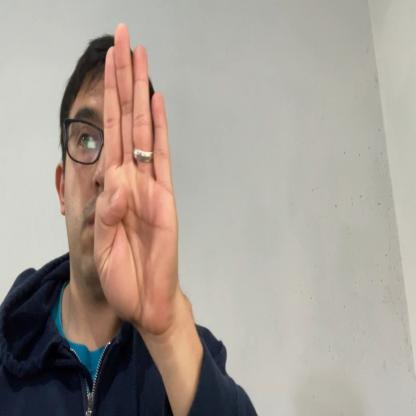B: (93, 19, 179, 321)
